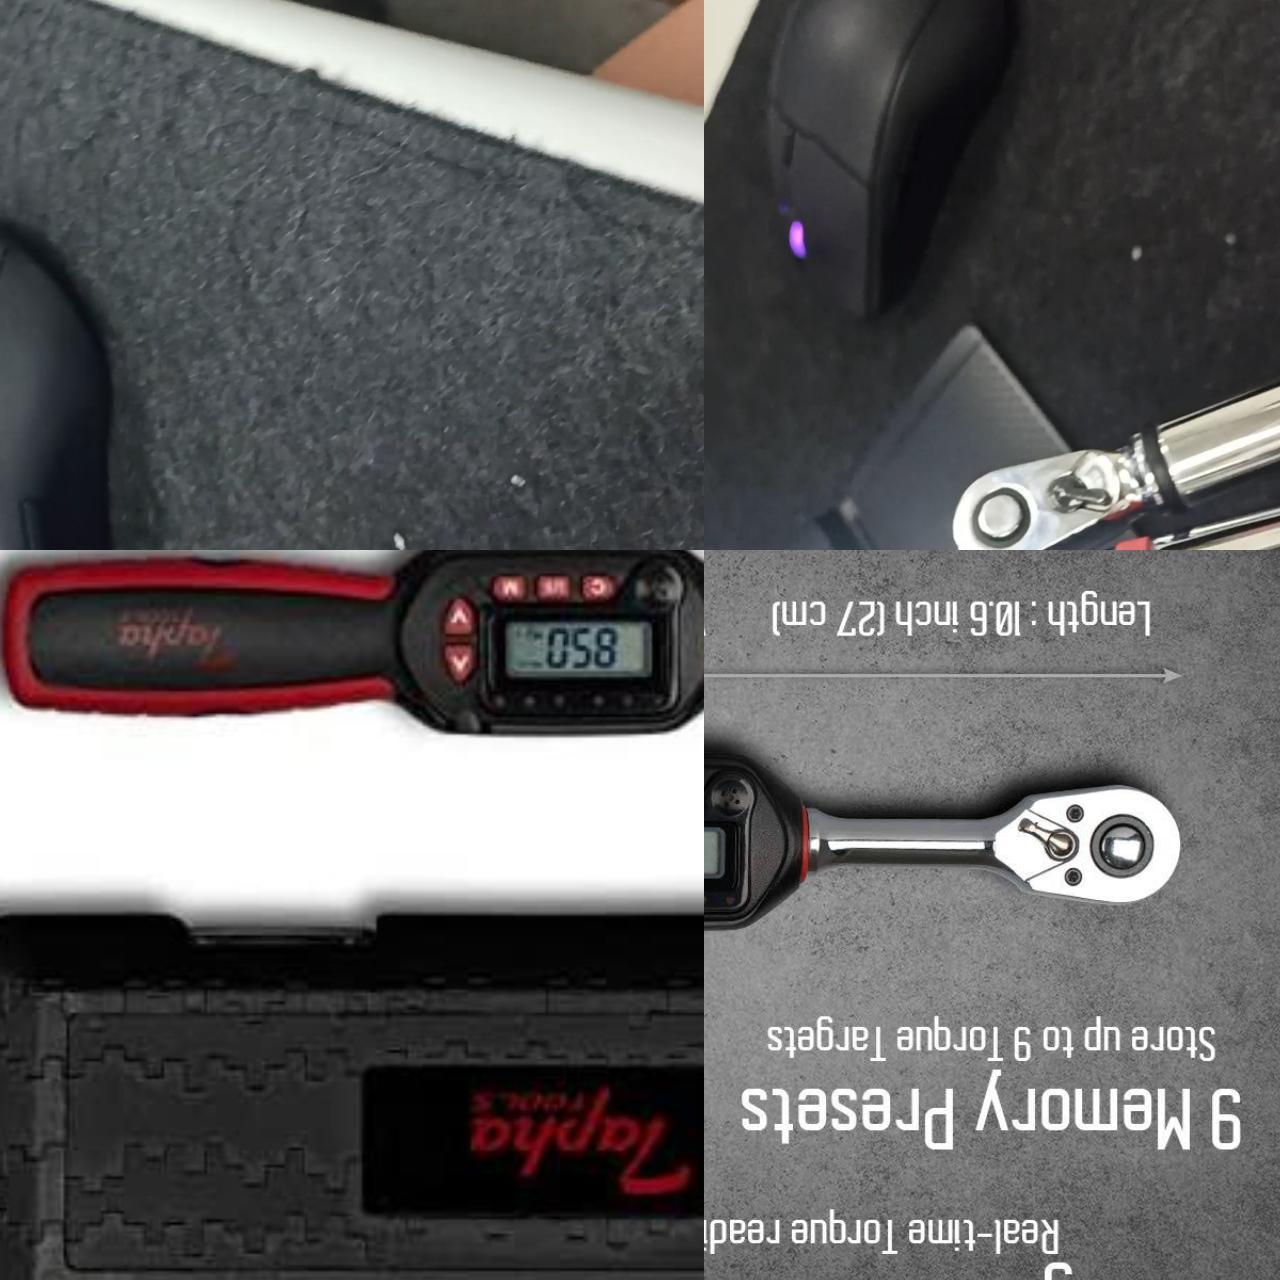Tool: (937, 428, 1176, 550), (1000, 782, 1185, 908)
